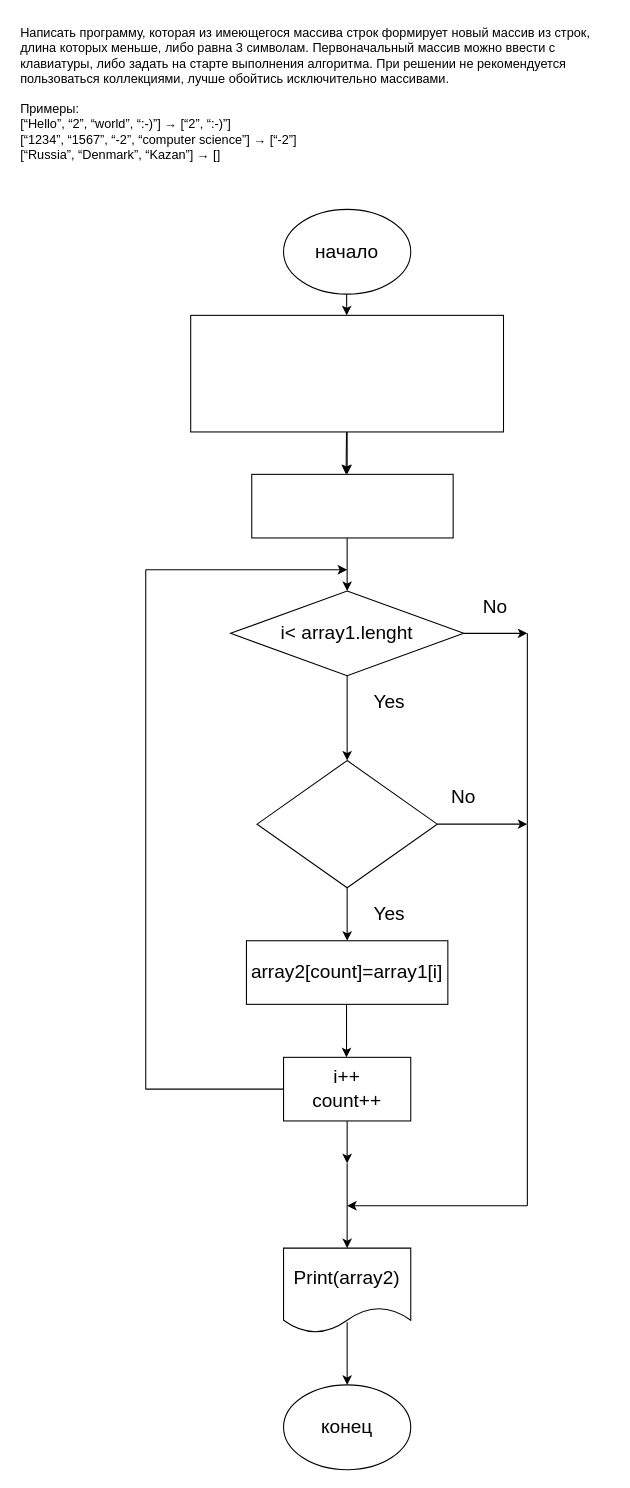
This 630x1488 diagram has some shape labels left out. Here are the shapes that lost their labels. From the top down, the centre of each, then its label:
At [347,373]: "array1 array2 count=0".
At [352,505]: "i=0".
At [346,823]: "array1[i].lenght<=3".
